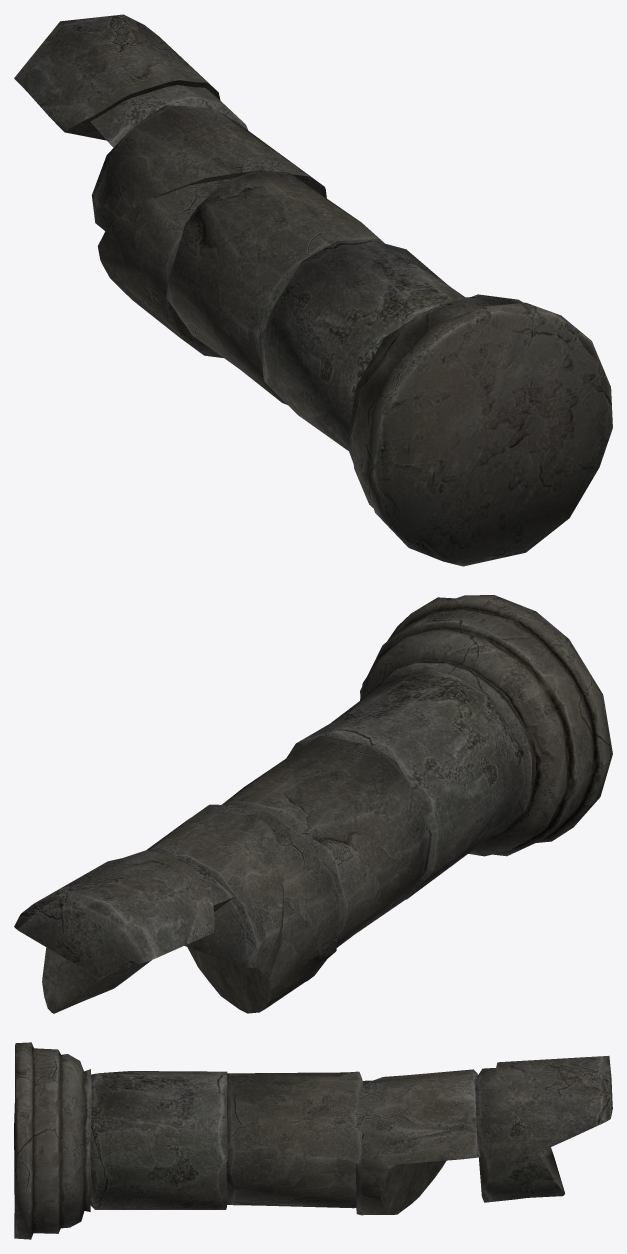
Rendered from TI_Pillar_D_01.fbx.
3 views of the same model, one above another, from view 1: azimuth 30°, elevation 25°; view 2: azimuth 150°, elevation 25°; view 3: azimuth 270°, elevation 25° (orthographic). The views are drawn at different scales.
Visible parts, largest first — view 1: TI_Pillar_D_01; view 2: TI_Pillar_D_01; view 3: TI_Pillar_D_01.
Part boxes in pixels (box(x1,y1,x2,y2)): TI_Pillar_D_01: box(14, 14, 612, 566); TI_Pillar_D_01: box(14, 595, 612, 1013); TI_Pillar_D_01: box(14, 1042, 612, 1239).
Size of the model in its own units: 1.37 by 1.37 by 4.16.
